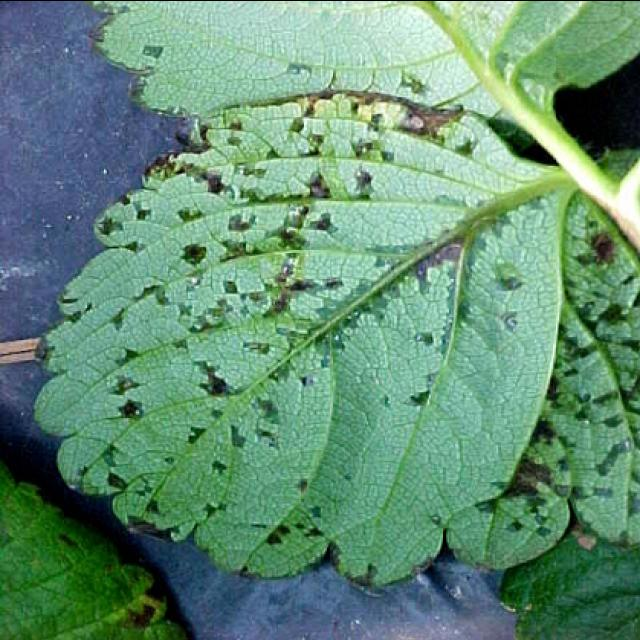Angular Leafspot: (32, 86, 638, 596), (82, 2, 638, 152)
